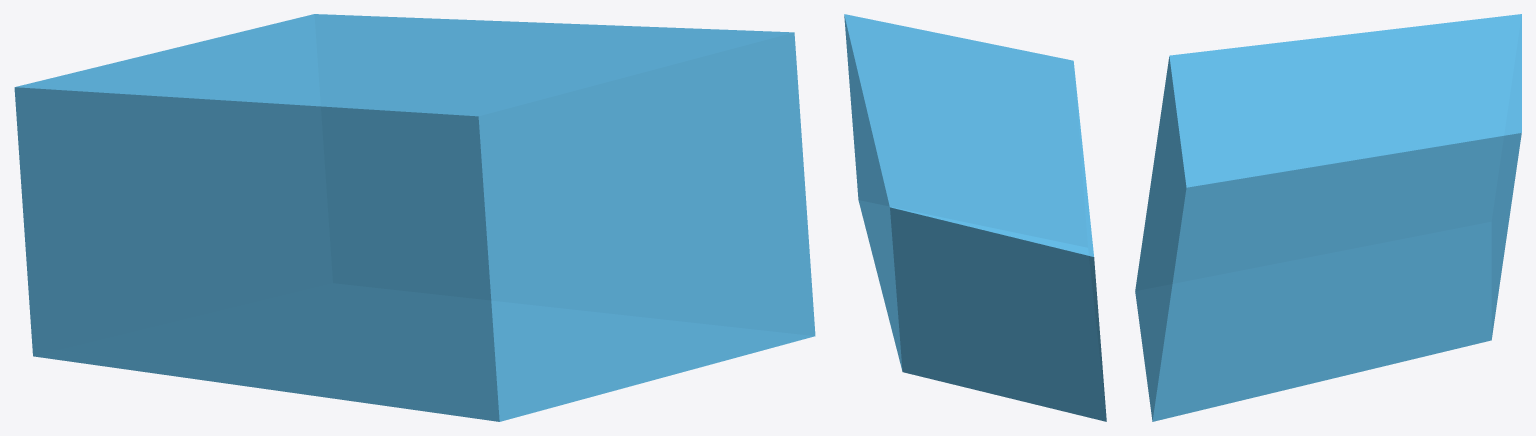
File: Event_420107950_HBrechit_29.fbx
3 views of the same model, side by side, from view 1: azimuth 30°, elevation 25°; view 2: azimuth 150°, elevation 25°; view 3: azimuth 270°, elevation 25° (orthographic). The views are drawn at different scales.
Parts seen in each view (by area): view 1: Model; view 2: Model; view 3: Model.
Part boxes in pixels (bbox=[...]): Model: bbox=[14, 14, 815, 421]; Model: bbox=[844, 14, 1106, 421]; Model: bbox=[1135, 14, 1521, 421].
Size of the model in its own units: 0.9352 by 0.5063 by 0.6723.
